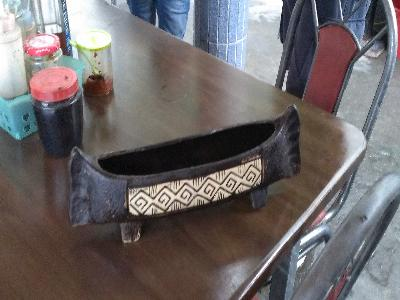bottle: (29, 65, 84, 159), (76, 30, 116, 97)
